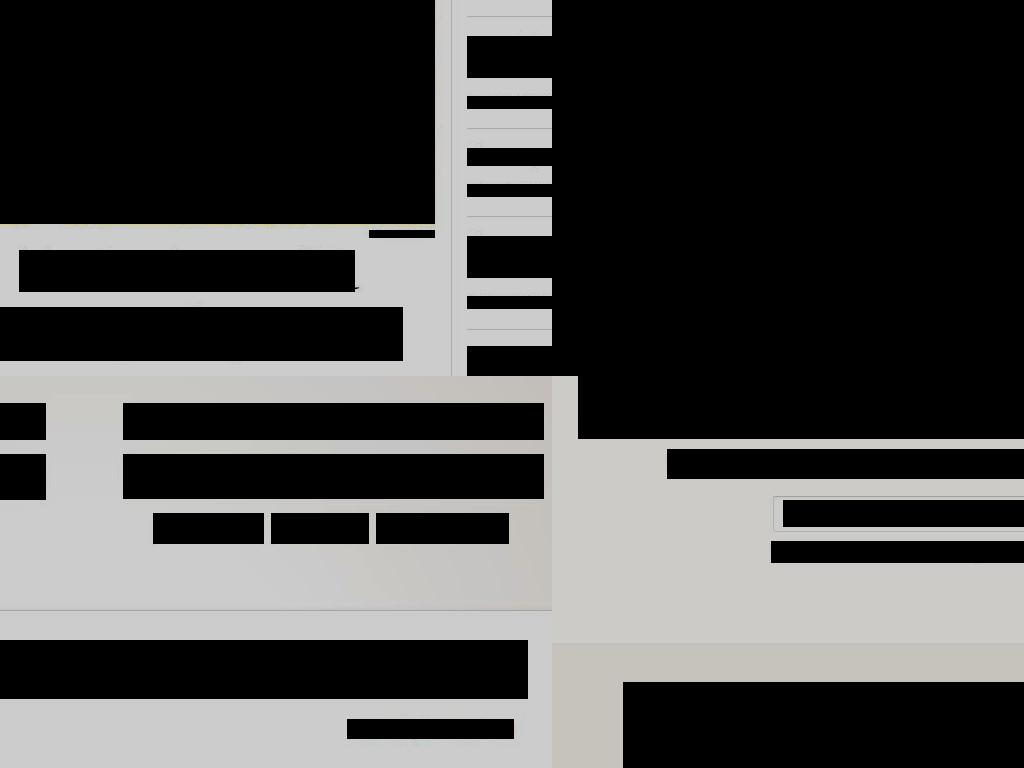button: (0, 0, 435, 224), (123, 454, 544, 499), (623, 682, 843, 768), (843, 682, 1024, 768), (376, 513, 509, 544), (153, 513, 264, 544), (271, 513, 369, 544)
field: (783, 500, 1024, 527)
heading: (612, 198, 1024, 376), (578, 376, 1024, 439), (123, 403, 544, 440), (19, 250, 355, 292), (667, 449, 1024, 479), (467, 36, 552, 78), (467, 236, 552, 278), (467, 148, 552, 166)
image: (552, 0, 1024, 376), (552, 0, 1024, 376), (0, 0, 435, 224), (643, 682, 823, 768), (863, 682, 1024, 768)
link: (418, 719, 514, 739), (347, 719, 409, 739), (467, 96, 552, 109), (467, 184, 552, 197), (467, 296, 552, 309)
text: (0, 640, 528, 699), (0, 307, 403, 361), (771, 541, 1024, 563), (268, 464, 423, 489), (612, 142, 696, 169), (406, 519, 496, 538), (178, 519, 251, 538), (302, 519, 356, 538), (612, 100, 666, 113), (369, 230, 435, 238), (408, 719, 419, 739)
